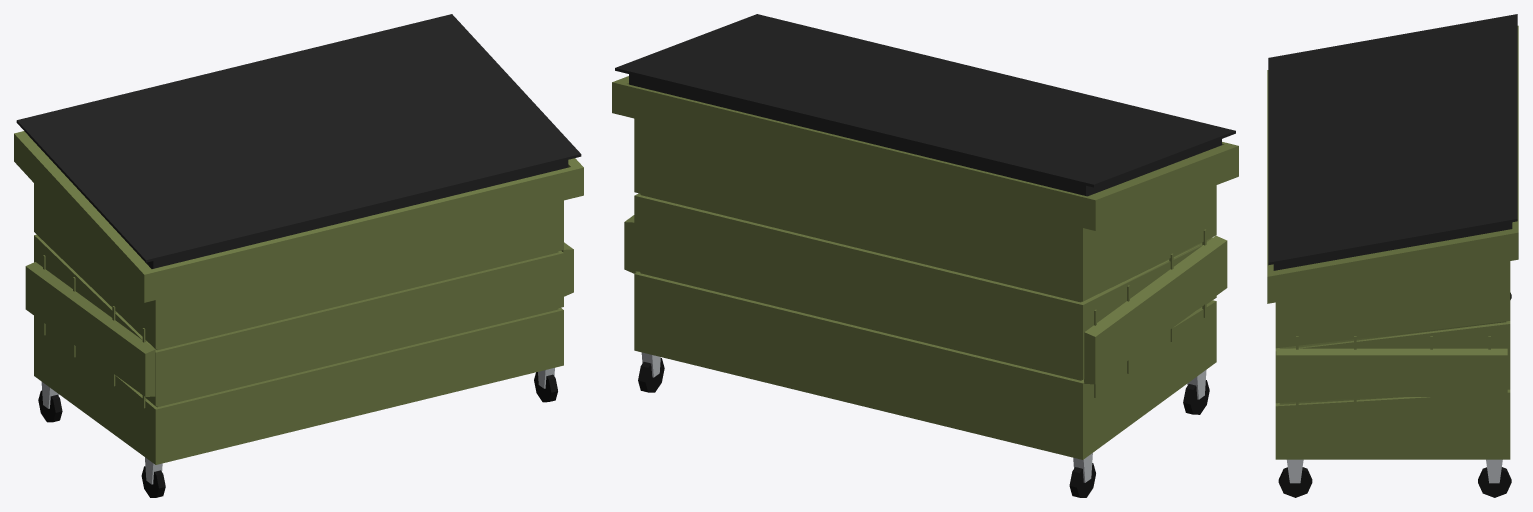
Rendered from SM_garbagecan_large_01.fbx.
3 views of the same model, side by side, from view 1: azimuth 30°, elevation 25°; view 2: azimuth 150°, elevation 25°; view 3: azimuth 270°, elevation 25° (orthographic). The views are drawn at different scales.
Visible parts, largest first — view 1: Box056; view 2: Box056; view 3: Box056.
Part boxes in pixels (bbox=[...]): Box056: bbox=[14, 14, 583, 497]; Box056: bbox=[612, 14, 1238, 497]; Box056: bbox=[1267, 14, 1518, 497].
Size of the model in its own units: 90.65 by 46.56 by 58.72.
